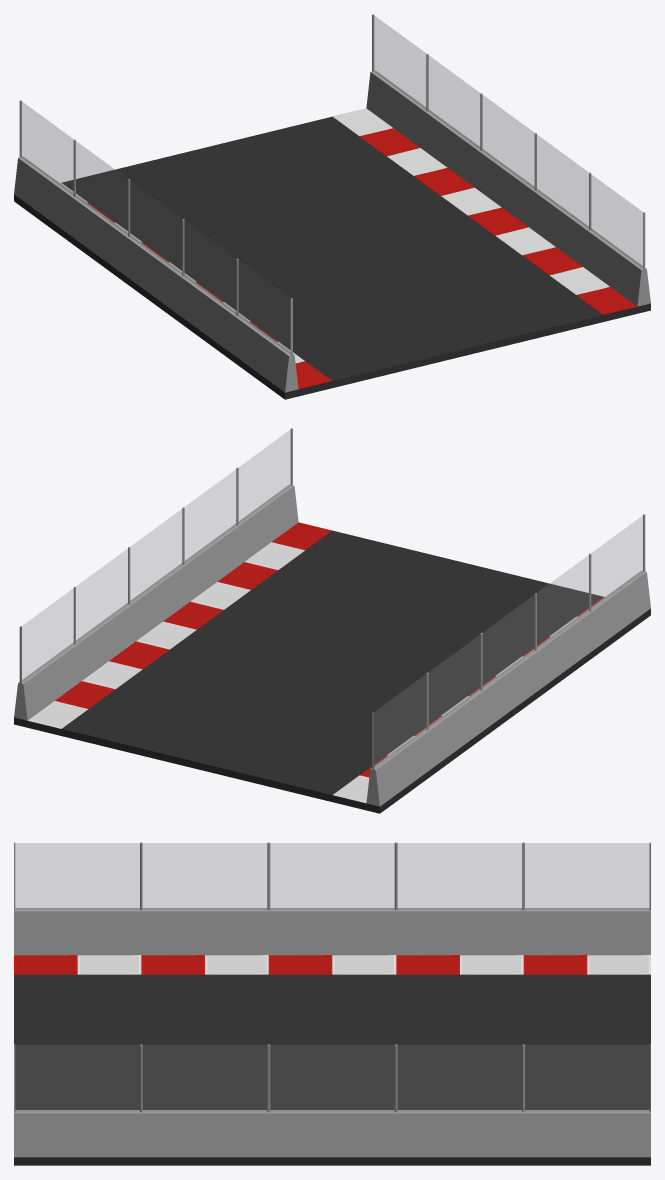
Rendered from track_straight_borders.glb.
The picture shows the model from 3 angles, top to bottom: view 1: azimuth 30°, elevation 25°; view 2: azimuth 150°, elevation 25°; view 3: azimuth 270°, elevation 25°; orthographic projection. The views are drawn at different scales.
Parts seen in each view (by area): view 1: Straight.001; view 2: Straight.001; view 3: Straight.001.
Boxes of the visible parts, x1=… form: Straight.001: x1=14, y1=14, x2=650, y2=399; Straight.001: x1=14, y1=428, x2=650, y2=813; Straight.001: x1=14, y1=842, x2=650, y2=1165.
Bounding box in the file's own units: 10.8 × 2.8 × 13.86.
